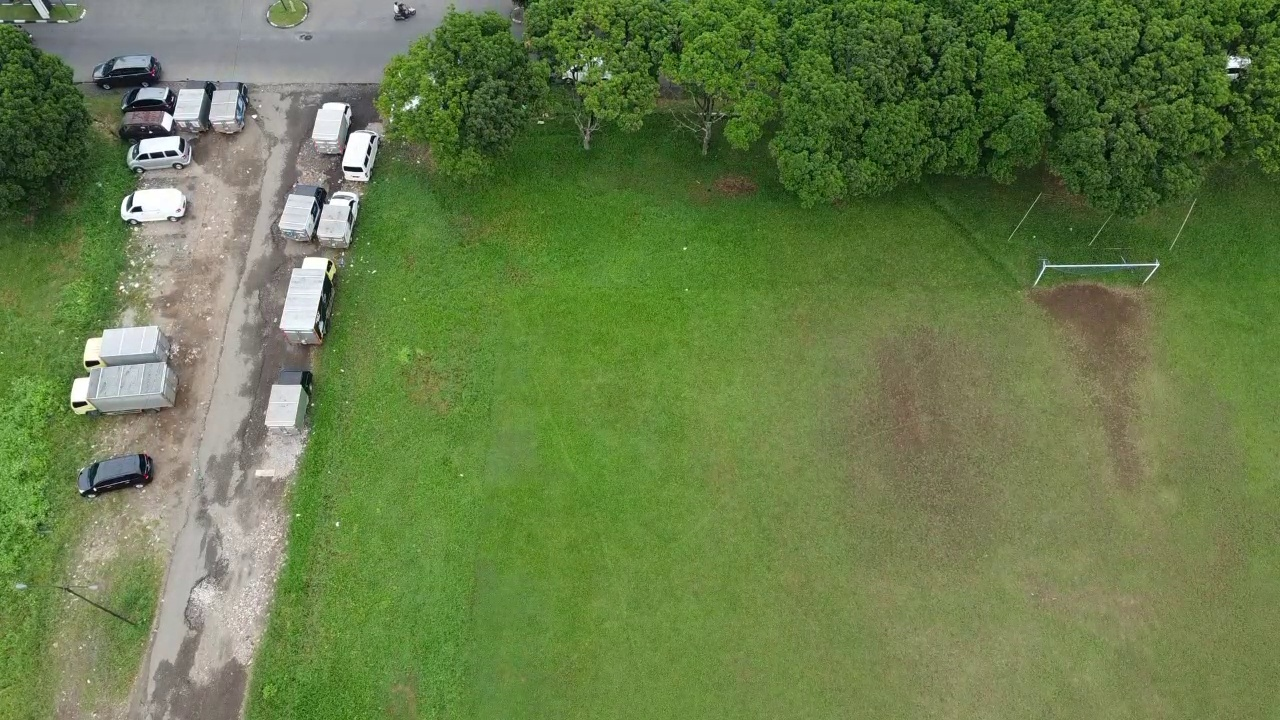mobil: (75, 447, 156, 496), (113, 181, 192, 224), (127, 137, 199, 172), (89, 53, 164, 86), (344, 122, 382, 187), (120, 84, 177, 117), (117, 106, 179, 135)
